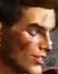kevin: (5, 4, 51, 73)
